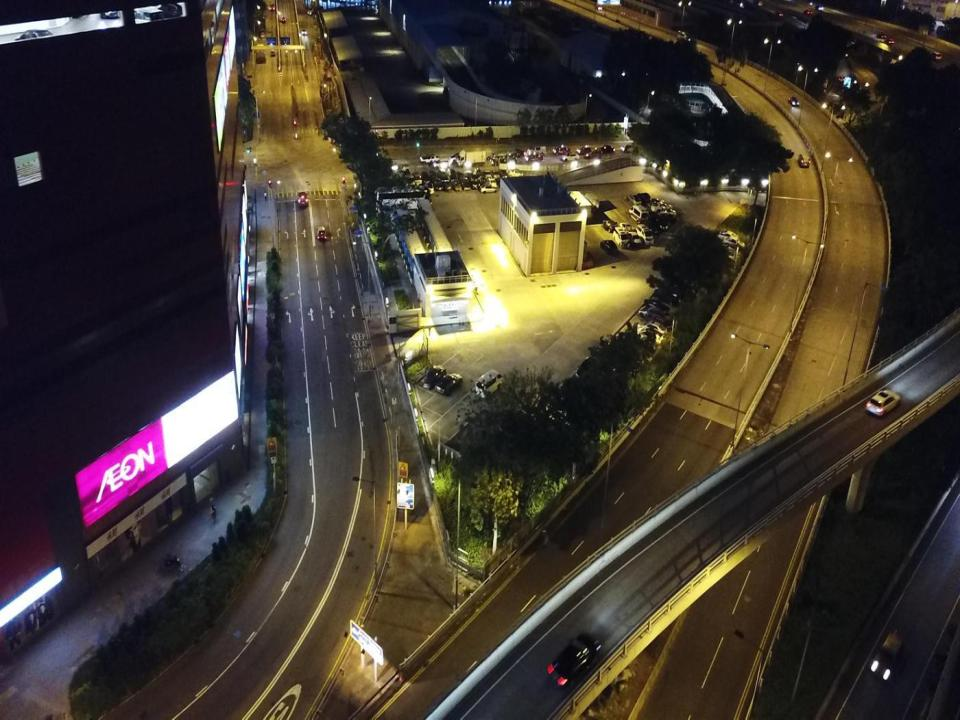bus: (492, 152, 518, 165)
car: (551, 632, 601, 684), (870, 630, 903, 684), (864, 389, 899, 416), (575, 355, 605, 384), (437, 372, 461, 395), (424, 365, 444, 391), (645, 298, 670, 314), (584, 192, 602, 214), (638, 330, 664, 344), (640, 322, 668, 335), (638, 305, 664, 319), (654, 290, 678, 305), (600, 239, 619, 256), (724, 237, 745, 250), (642, 219, 659, 235), (650, 216, 668, 231), (716, 231, 738, 242), (659, 214, 678, 225), (628, 231, 641, 247), (658, 208, 678, 218), (646, 198, 666, 208), (652, 202, 670, 213), (602, 219, 617, 232), (623, 194, 642, 204), (297, 191, 308, 208), (798, 155, 811, 169), (526, 152, 543, 162), (635, 193, 652, 203), (420, 154, 440, 162), (552, 146, 571, 154), (788, 95, 800, 107), (562, 152, 580, 160), (620, 144, 638, 152), (433, 178, 444, 191), (317, 226, 327, 240), (426, 167, 436, 180), (456, 166, 466, 179), (449, 154, 465, 162), (578, 146, 594, 154), (482, 186, 497, 194), (620, 222, 632, 232), (929, 51, 942, 60), (425, 181, 434, 194), (438, 167, 447, 180), (447, 166, 456, 179), (465, 167, 474, 180), (510, 149, 524, 157), (420, 170, 428, 183), (444, 179, 452, 192), (470, 176, 478, 189), (452, 180, 462, 190), (487, 178, 498, 187), (500, 167, 509, 178), (463, 177, 470, 191), (475, 166, 483, 178), (510, 169, 523, 176), (484, 168, 492, 179), (492, 168, 500, 179), (885, 38, 894, 45), (775, 10, 783, 17), (837, 76, 846, 82), (876, 33, 886, 38), (814, 5, 824, 10), (307, 8, 314, 15), (804, 9, 811, 15), (280, 16, 286, 23), (753, 0, 761, 5), (270, 49, 275, 57), (301, 29, 307, 35), (260, 32, 265, 38)
truck: (458, 151, 486, 166), (401, 168, 415, 187), (256, 43, 265, 62), (413, 167, 422, 186)
van: (474, 368, 503, 398), (646, 309, 673, 328), (636, 224, 655, 245), (612, 226, 630, 248), (629, 205, 648, 223), (677, 30, 691, 43), (474, 149, 492, 159), (528, 146, 546, 156), (585, 150, 602, 159), (597, 145, 615, 153), (270, 2, 274, 10)
